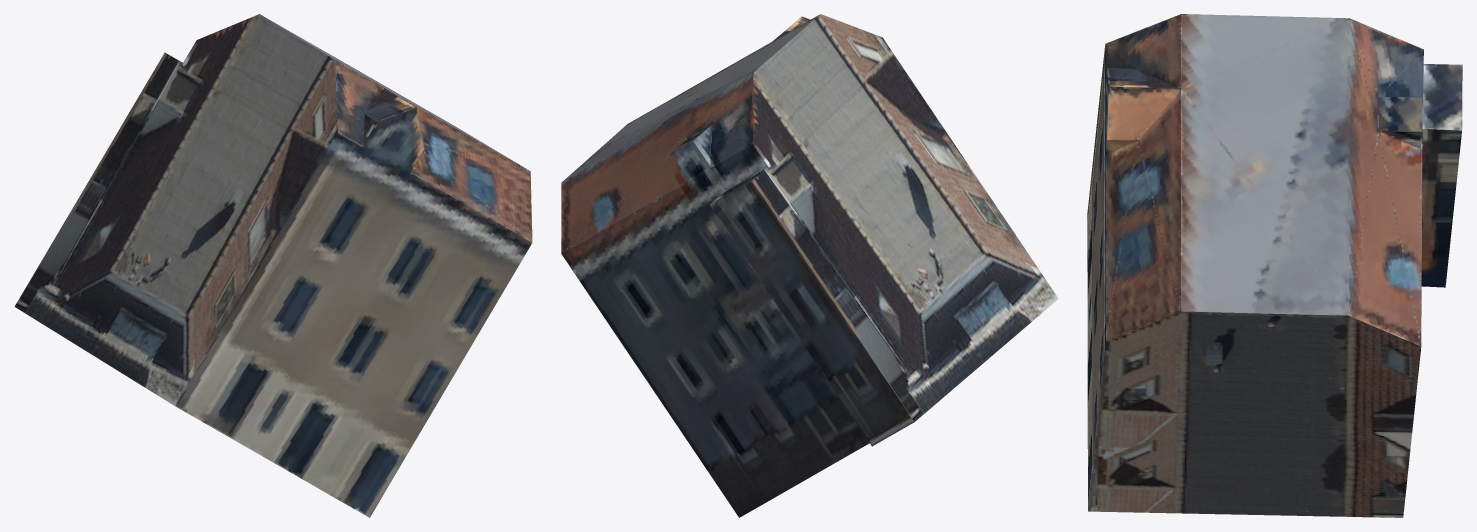
The picture shows the model from 3 angles, left to right: view 1: azimuth 30°, elevation 25°; view 2: azimuth 150°, elevation 25°; view 3: azimuth 270°, elevation 25°; orthographic projection. The views are drawn at different scales.
Parts seen in each view (by area): view 1: BAG_0599100000688681 (×4); view 2: BAG_0599100000688681 (×4); view 3: BAG_0599100000688681 (×5).
Boxes of the visible parts, left/top/right/bottom form: BAG_0599100000688681 (×4): left=14, top=14, right=532, bottom=517; BAG_0599100000688681 (×4): left=561, top=14, right=1058, bottom=517; BAG_0599100000688681 (×5): left=1087, top=14, right=1462, bottom=517.
Size of the model in its own units: 15.75 by 16.3 by 10.84.
Materials: 5 (5 with a texture image).
